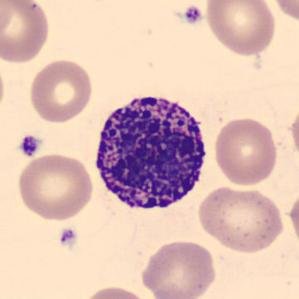Basophil: (88, 86, 214, 217)
Platelets: (17, 134, 42, 158), (57, 226, 78, 249), (182, 3, 203, 26)
RBC: (194, 183, 287, 256), (14, 151, 96, 222), (211, 114, 280, 188), (138, 237, 219, 299), (26, 57, 96, 124), (203, 0, 278, 57), (0, 0, 52, 65), (78, 283, 152, 299), (268, 0, 299, 26), (287, 188, 299, 251), (288, 99, 299, 162), (0, 1, 15, 37), (0, 56, 7, 120)
